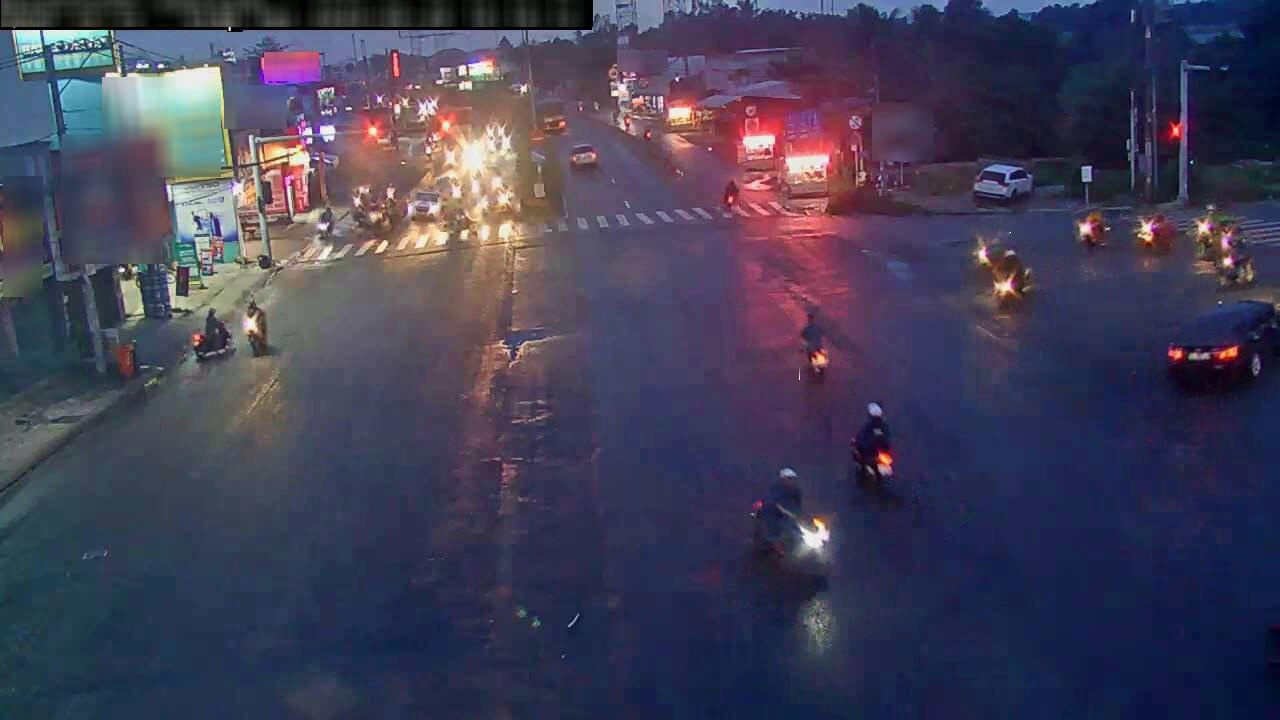Car: (1165, 299, 1279, 385), (1191, 210, 1242, 257), (972, 164, 1033, 203), (1135, 213, 1175, 251), (479, 177, 516, 217), (1077, 211, 1108, 247), (409, 189, 441, 220), (570, 144, 598, 168)
Motorcyclist: (750, 468, 831, 580), (850, 402, 895, 489), (984, 244, 1034, 308), (191, 309, 234, 361), (799, 309, 828, 379), (1219, 231, 1254, 286), (971, 235, 1009, 279), (243, 295, 267, 356), (447, 201, 478, 238), (351, 186, 371, 228), (721, 176, 740, 215), (368, 198, 388, 233), (316, 206, 334, 243)
